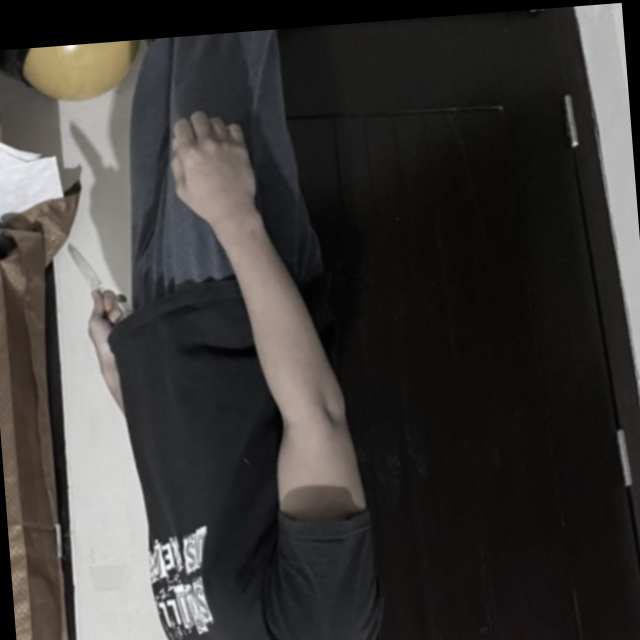Sharp-Object: (67, 237, 118, 327)
